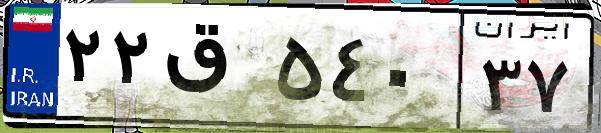0: (385, 28, 445, 110)
2: (57, 26, 110, 100), (110, 28, 158, 98)
3: (475, 38, 525, 113)
4: (330, 28, 385, 110)
5: (270, 28, 330, 110)
7: (525, 38, 570, 115)
ق: (158, 20, 270, 120)
